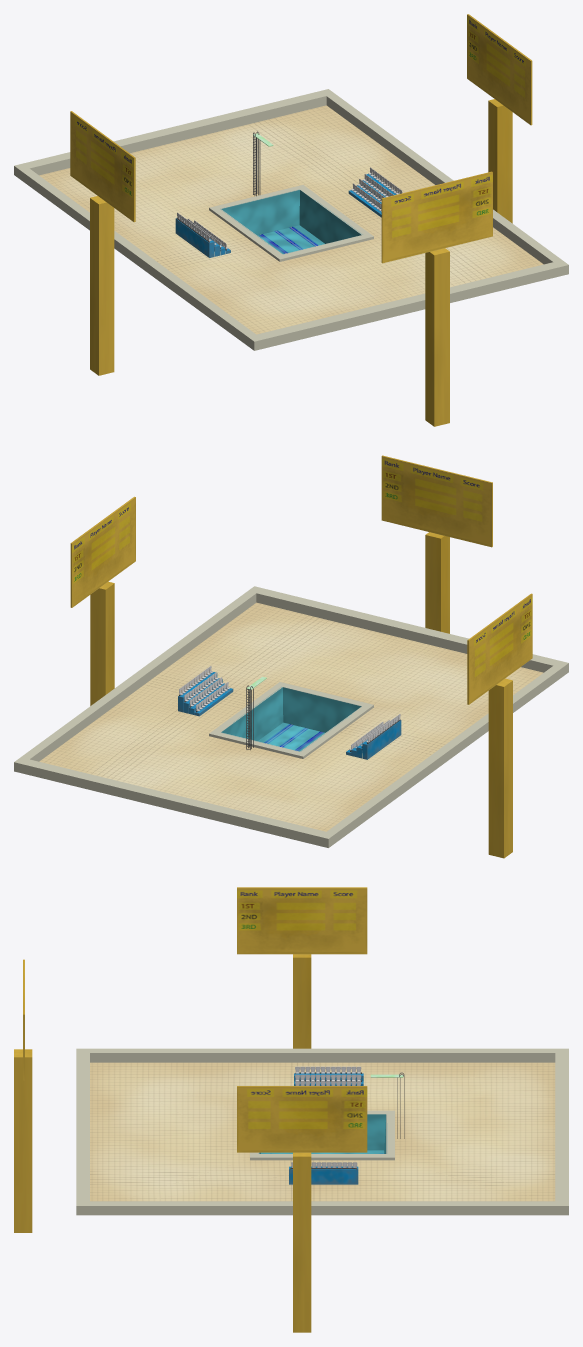
File: Pool lvl textured.fbx
3 renders of one model, top to bottom at view 1: azimuth 30°, elevation 25°; view 2: azimuth 150°, elevation 25°; view 3: azimuth 270°, elevation 25°, orthographic. The views are drawn at different scales.
Parts seen in each view (by area): view 1: Whitebarriers, score1, score2, pool, score3, Stands; view 2: Whitebarriers, score1, score2, score3, pool, Stands; view 3: Whitebarriers, score3, score2, score1, Stands, pool.
Boxes of the visible parts, bbox=[...] form: Whitebarriers: bbox=[14, 89, 568, 350]; score1: bbox=[381, 171, 492, 426]; score2: bbox=[70, 111, 135, 375]; pool: bbox=[209, 185, 373, 261]; score3: bbox=[467, 14, 532, 223]; Stands: bbox=[175, 167, 402, 257]; Whitebarriers: bbox=[14, 586, 568, 847]; score1: bbox=[381, 455, 492, 633]; score2: bbox=[467, 593, 532, 858]; score3: bbox=[70, 496, 135, 705]; pool: bbox=[209, 682, 373, 758]; Stands: bbox=[178, 666, 401, 759]; Whitebarriers: bbox=[76, 1048, 568, 1215]; score3: bbox=[237, 1086, 367, 1332]; score2: bbox=[237, 887, 367, 1048]; score1: bbox=[14, 959, 32, 1232]; Stands: bbox=[289, 1066, 363, 1184]; pool: bbox=[250, 1110, 394, 1160].
Size of the model in its own units: 257 by 140 by 291.
1 material, 1 textured.
